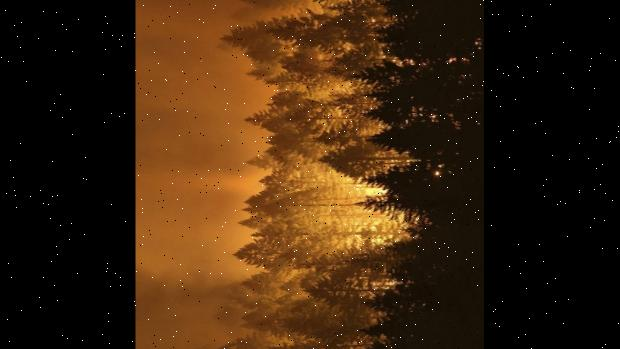fire: (315, 156, 430, 272)
